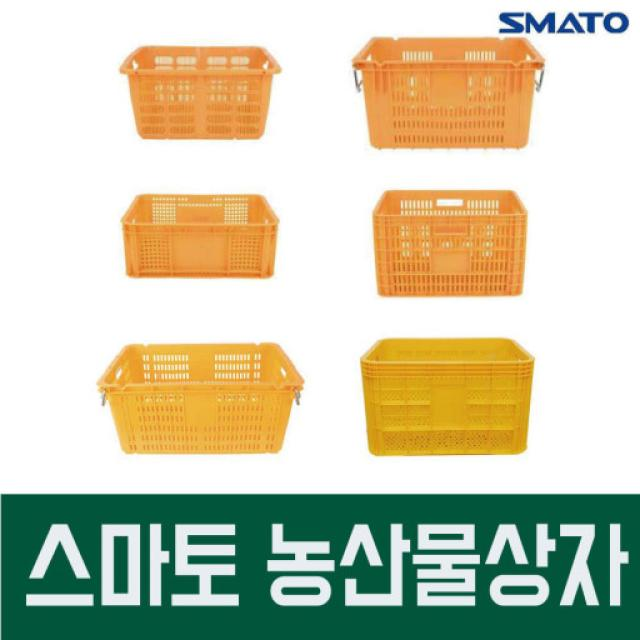basket: (97, 345, 304, 455), (353, 37, 546, 148), (362, 339, 535, 456), (374, 192, 529, 296), (119, 46, 282, 140), (122, 193, 279, 278)
